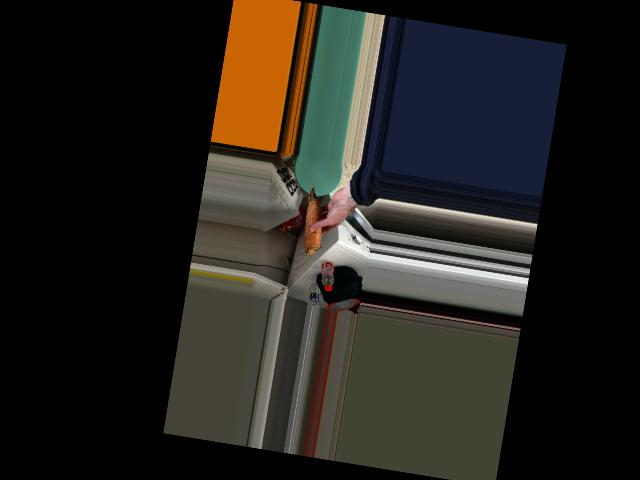sweet_potato: (300, 187, 328, 252)
